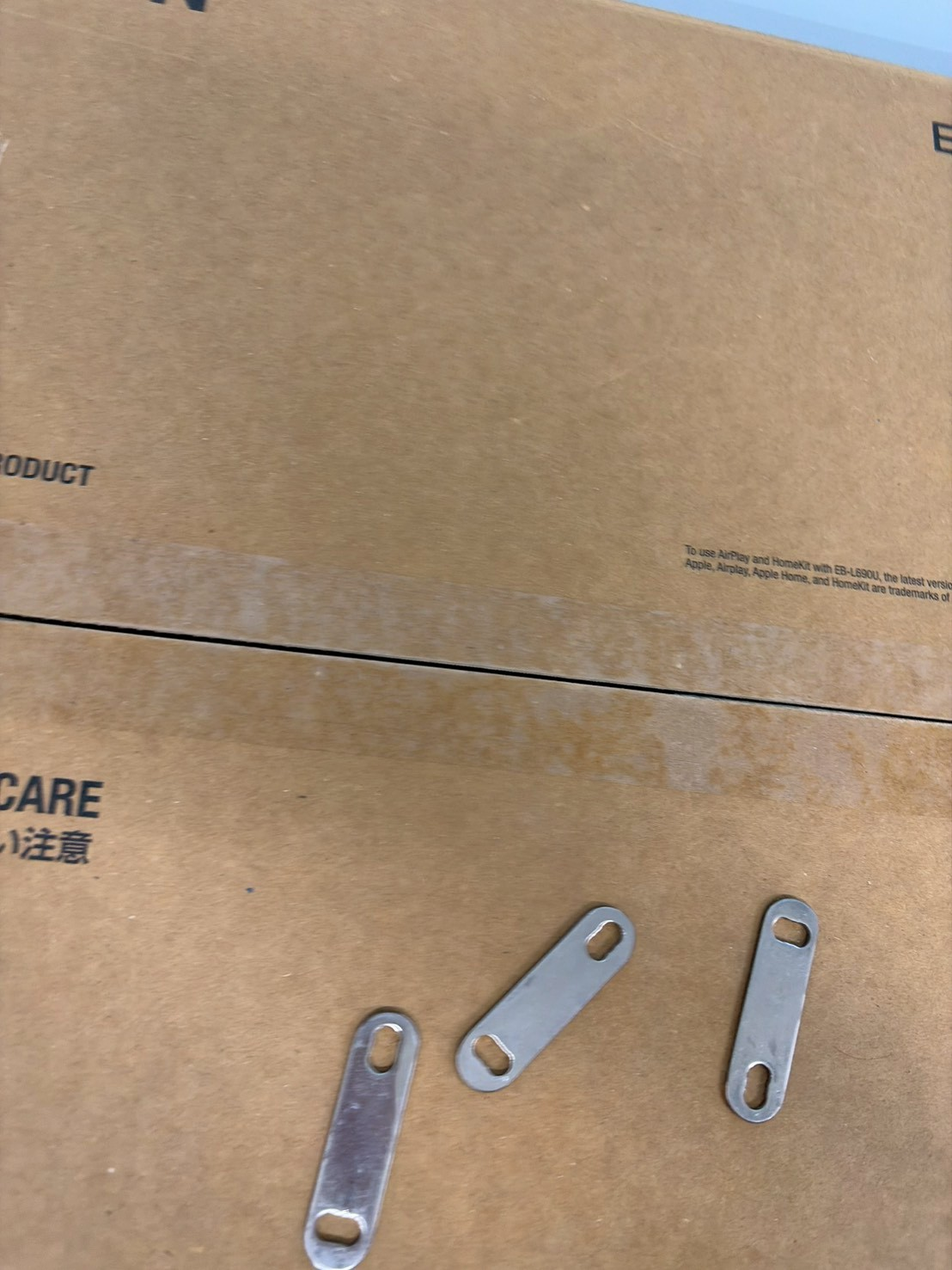Fe: (460, 889, 621, 1084), (303, 971, 396, 1261), (727, 880, 818, 1127)
